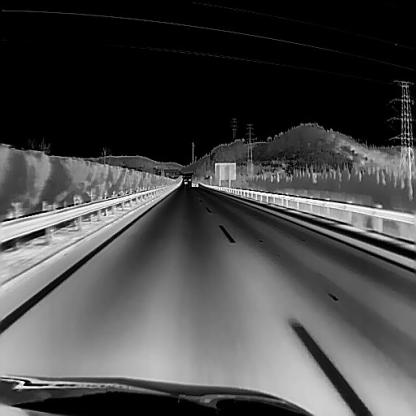truck: (191, 172, 198, 186)
